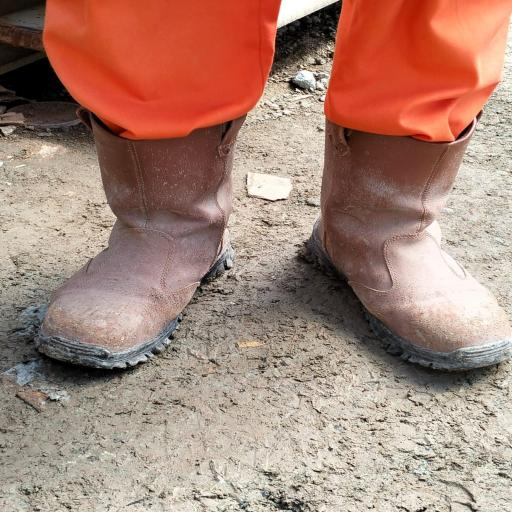safety_shoe: (312, 115, 512, 377), (33, 104, 238, 359)
